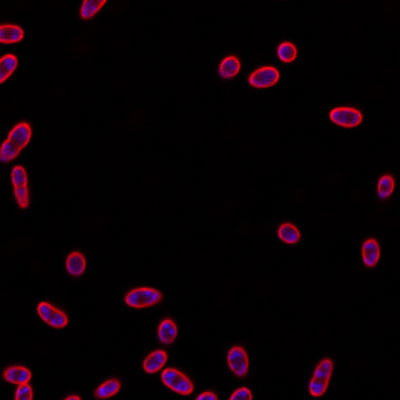MP265: (1, 119, 33, 162), (160, 366, 194, 397), (36, 301, 68, 329), (328, 106, 364, 127), (247, 66, 280, 88), (361, 236, 381, 268), (141, 349, 168, 372), (1, 365, 34, 382), (277, 41, 298, 63)
Oblique: (122, 284, 164, 309), (9, 163, 30, 209), (224, 343, 250, 377), (156, 317, 180, 346), (64, 250, 87, 278), (93, 376, 121, 399), (276, 222, 302, 246), (375, 173, 395, 200), (218, 55, 240, 79)
